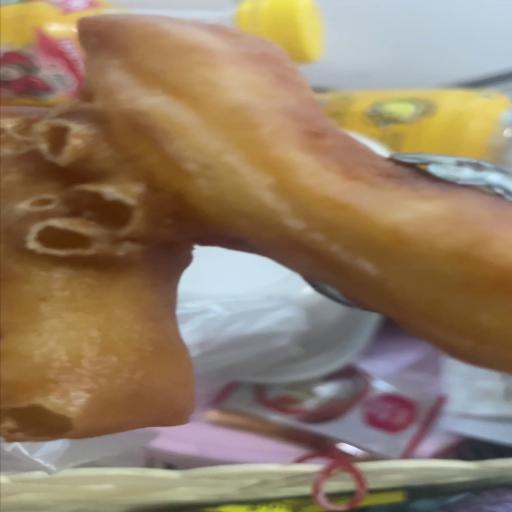street_burnt_defect: (1, 12, 511, 418)
